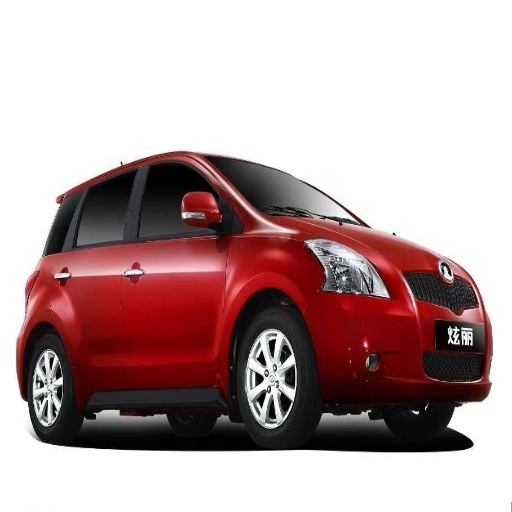front_bumper: (307, 291, 490, 400)
front_right_door: (123, 158, 229, 382)
front_right_light: (308, 240, 389, 295)
